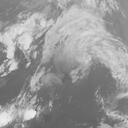cyclone: (34, 42, 96, 96)
